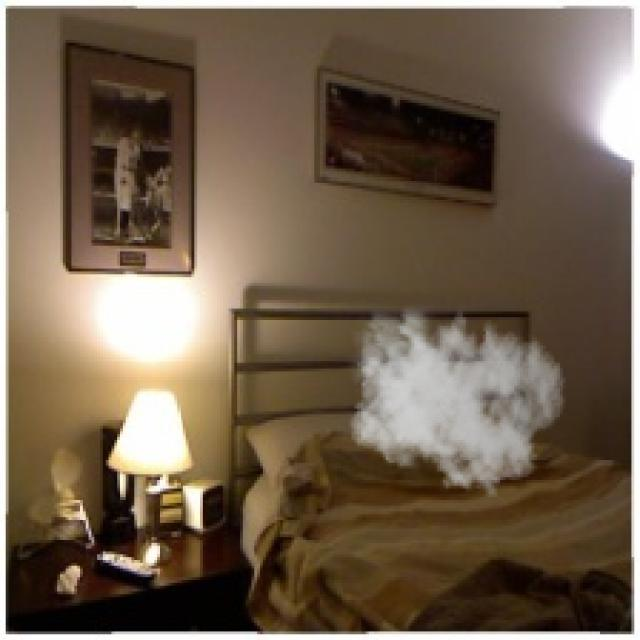smoke: (343, 297, 566, 497)
